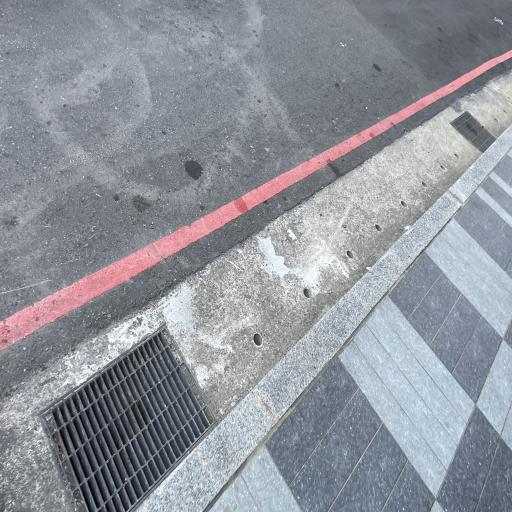redline: (0, 40, 511, 355)
